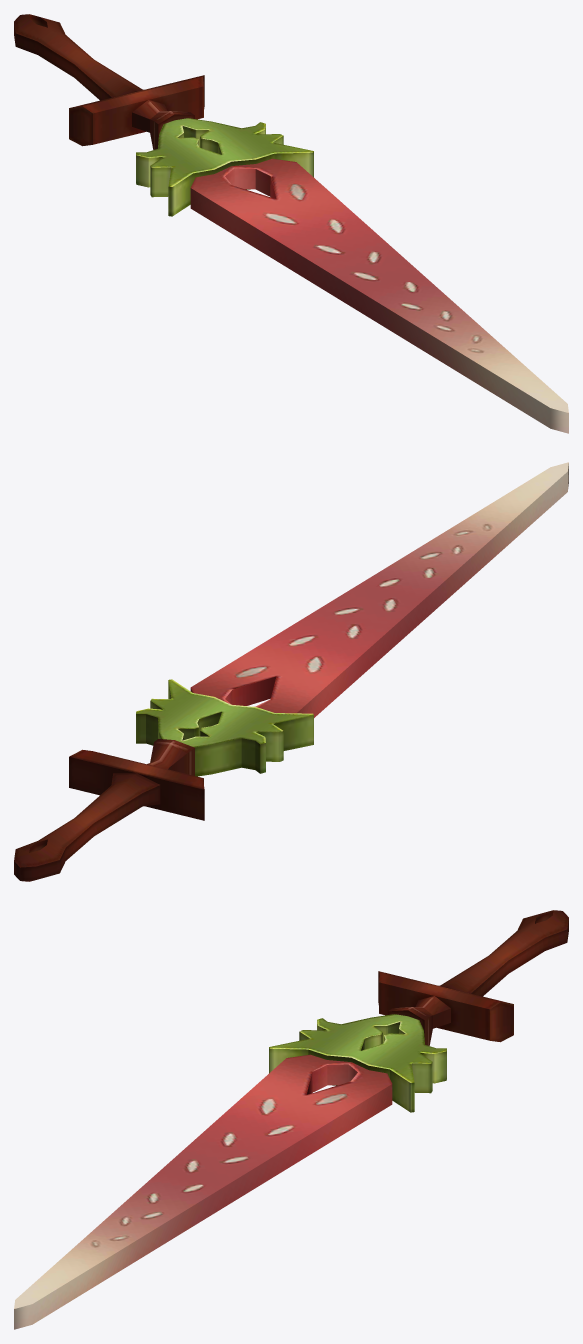
Rendered from sword3012.fbx.
3 views of the same model, one above another, from view 1: azimuth 30°, elevation 25°; view 2: azimuth 150°, elevation 25°; view 3: azimuth 330°, elevation 25° (orthographic).
Visible parts, largest first — view 1: sword3012; view 2: sword3012; view 3: sword3012.
Part boxes in pixels (x1=…): sword3012: x1=14, y1=14, x2=568, y2=433; sword3012: x1=14, y1=462, x2=568, y2=881; sword3012: x1=14, y1=910, x2=568, y2=1329.
Bounding box in the file's own units: 0.1432 × 0.0392 × 0.9357.
